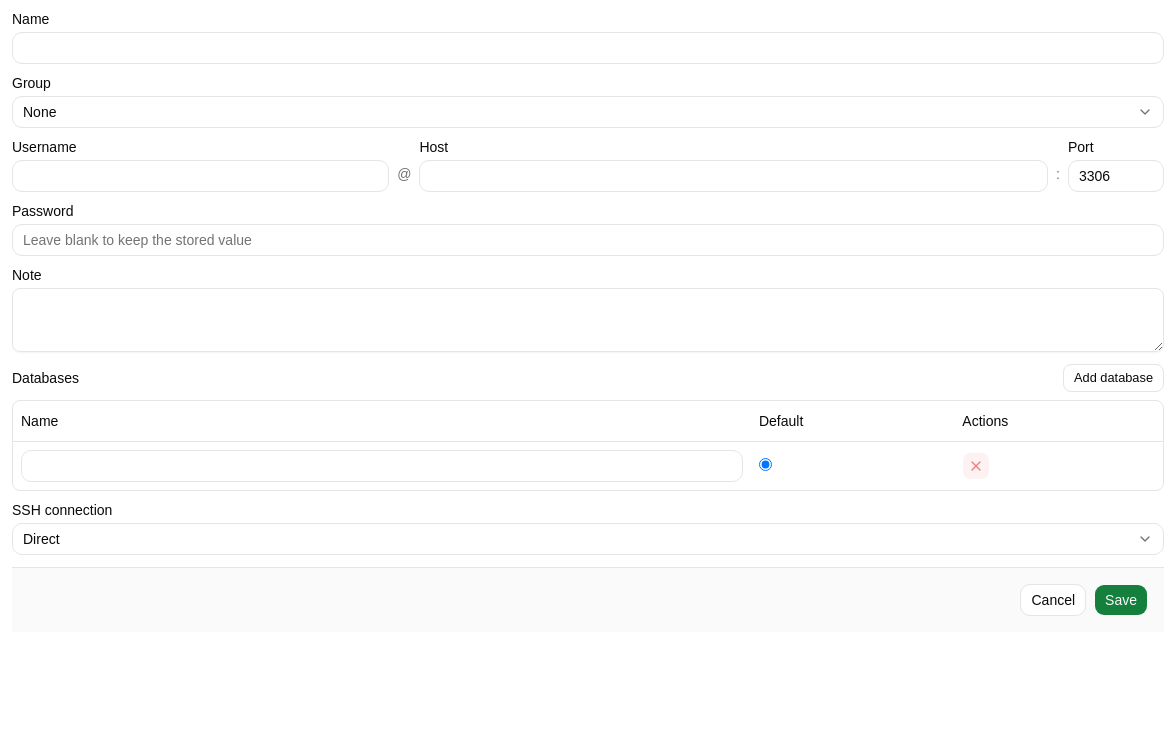
Test: DBForm › blocks submission when database names are duplicated
The image size is (1176, 732).
In the field labelled "Name": (588, 48) 12,32 -> 1164,64, type "db-1"
In the field labelled "Host": (734, 176) 419,160 -> 1048,192, type "127.0.0.1"
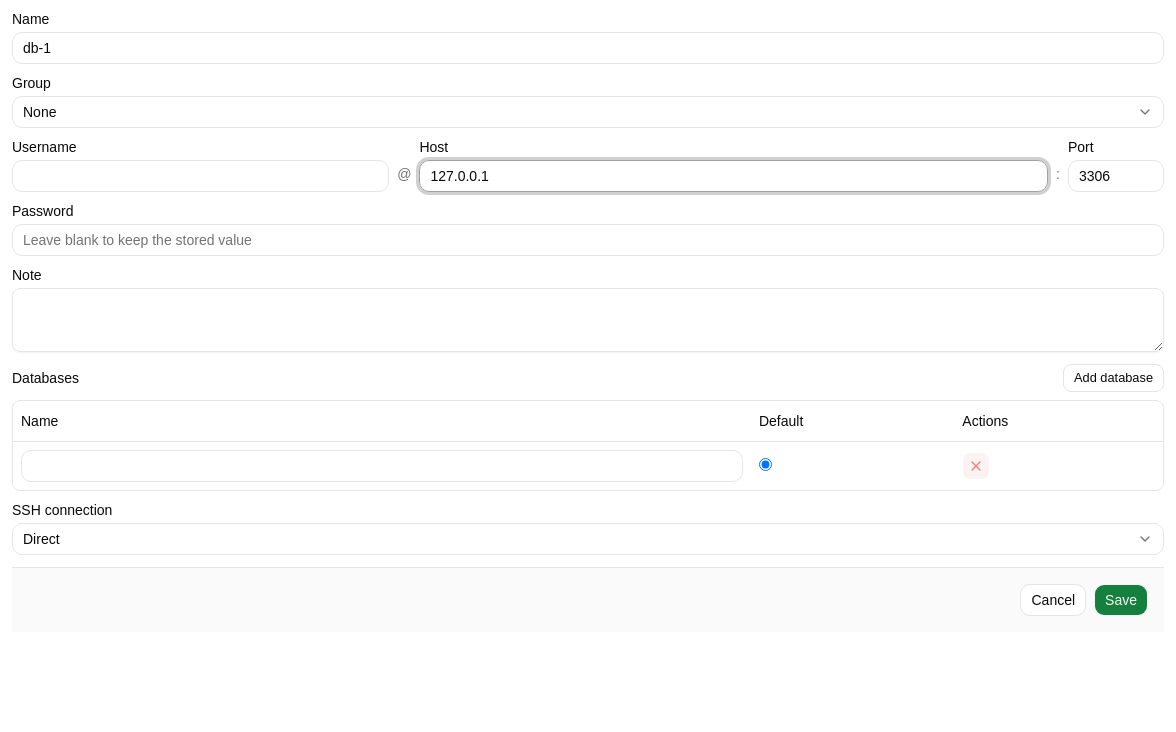
In the field labelled "Username": (201, 176) 12,160 -> 389,192, type "app"
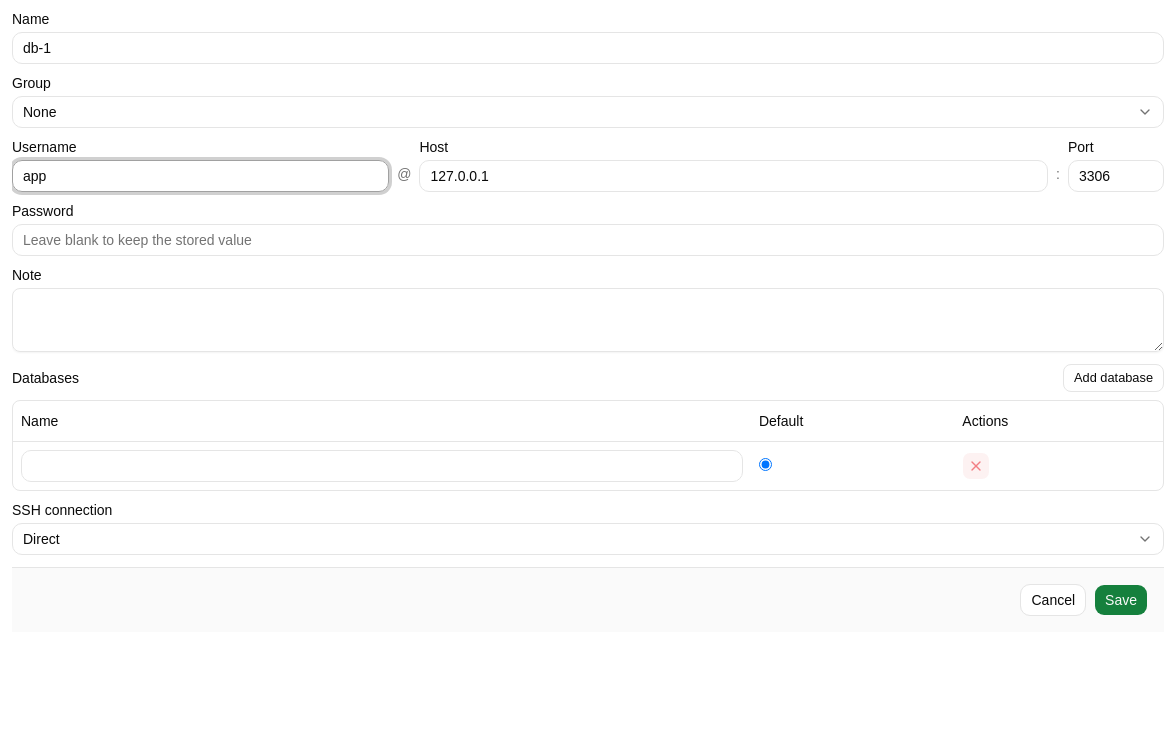
Click the button "Add database": click(1114, 378) 1063,364 -> 1164,392
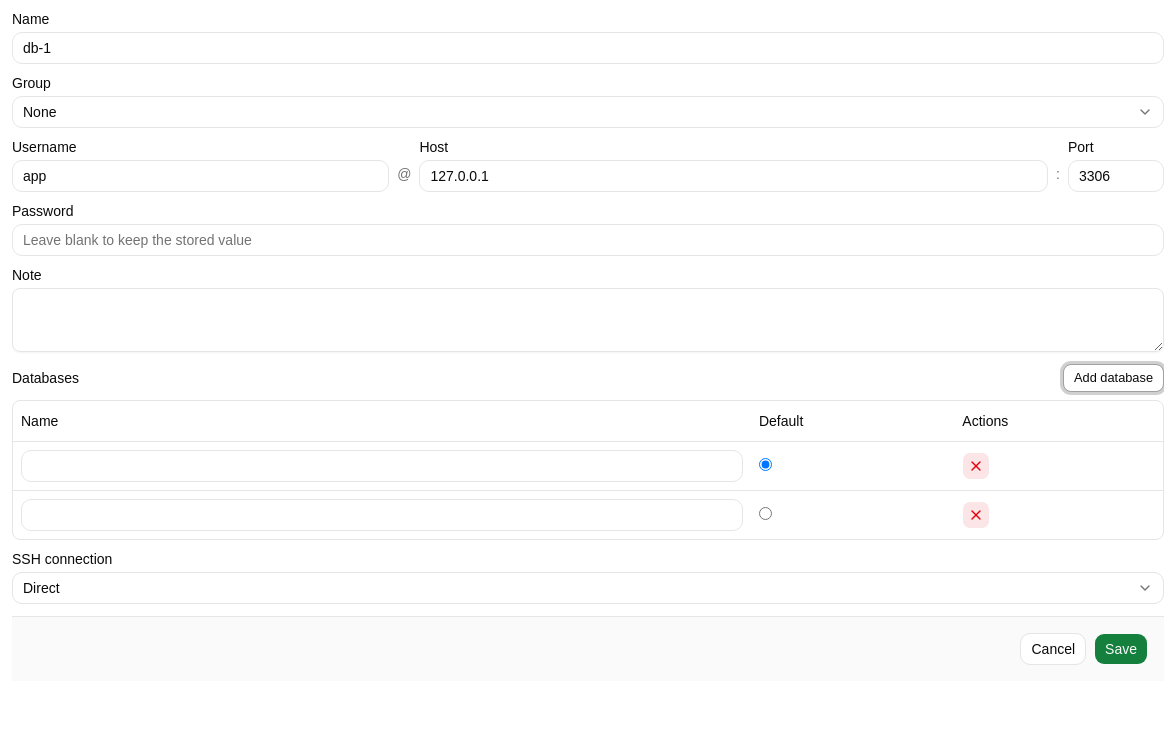
In the 1st field named "Database name": (382, 466) 21,450 -> 743,482, type "main"
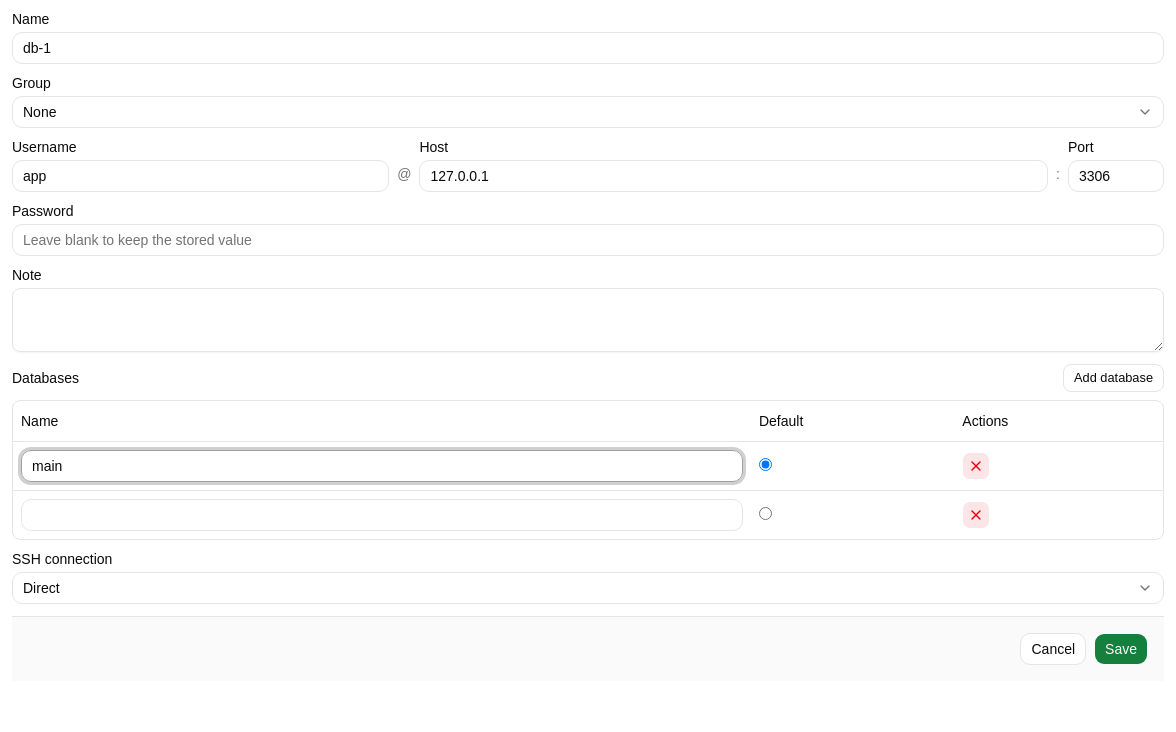
In the 2nd field named "Database name": (382, 514) 21,498 -> 743,530, type "main"
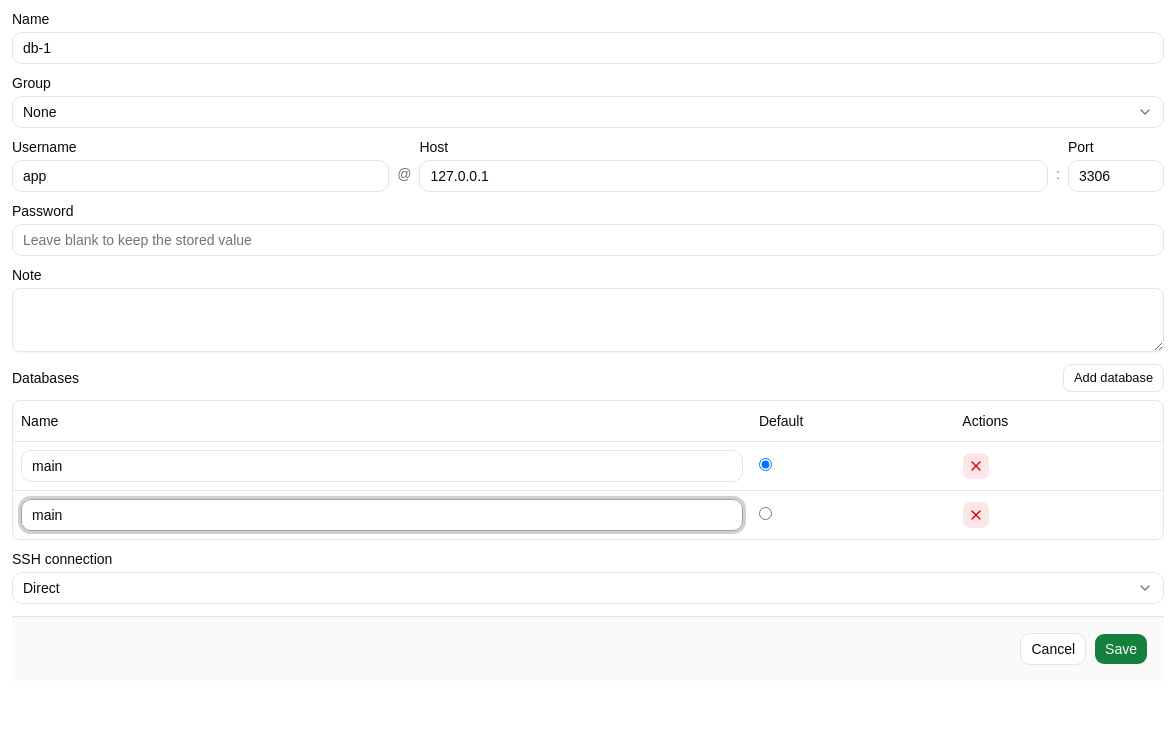
Click the button "Save": click(1121, 648) 1094,632 -> 1148,664
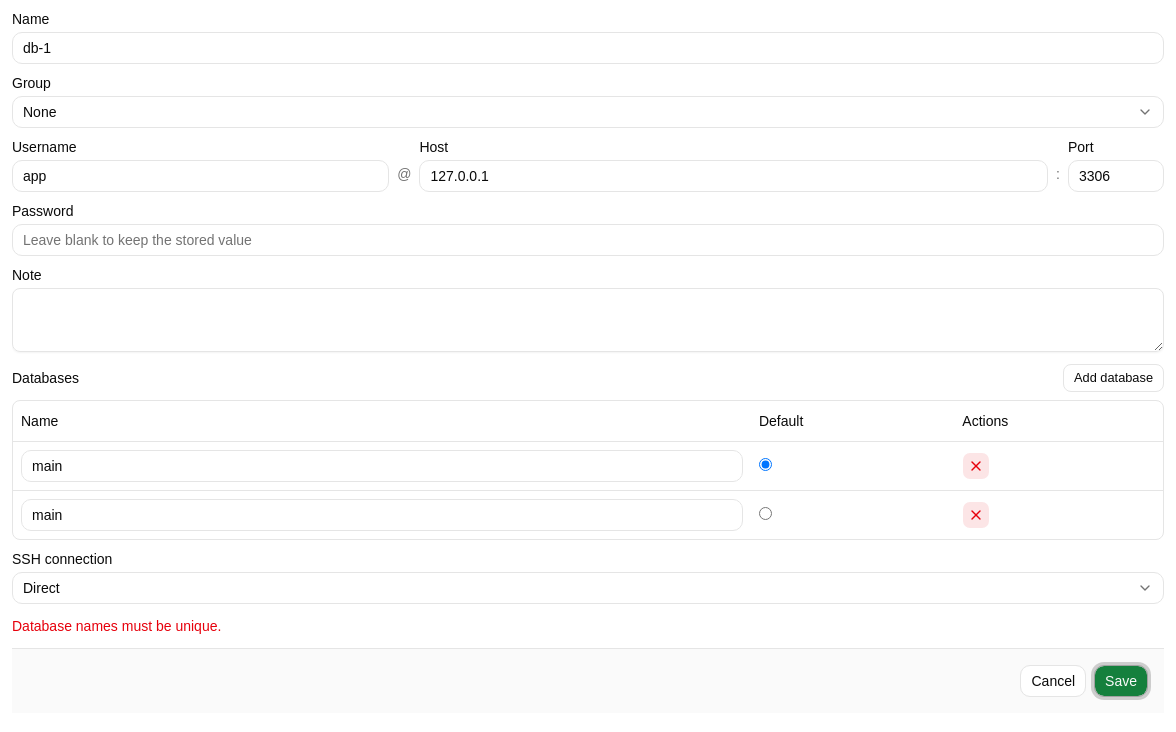
Result: the message shows "unique" at 12,618 -> 221,634
